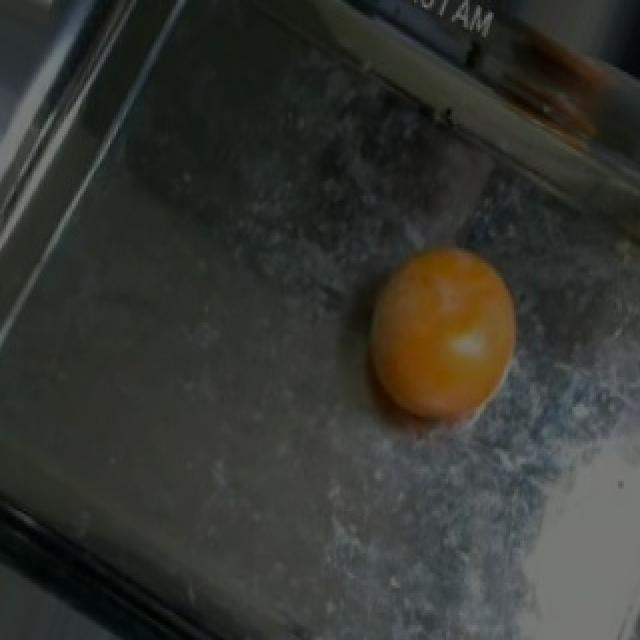Fruit: (344, 223, 536, 454)
